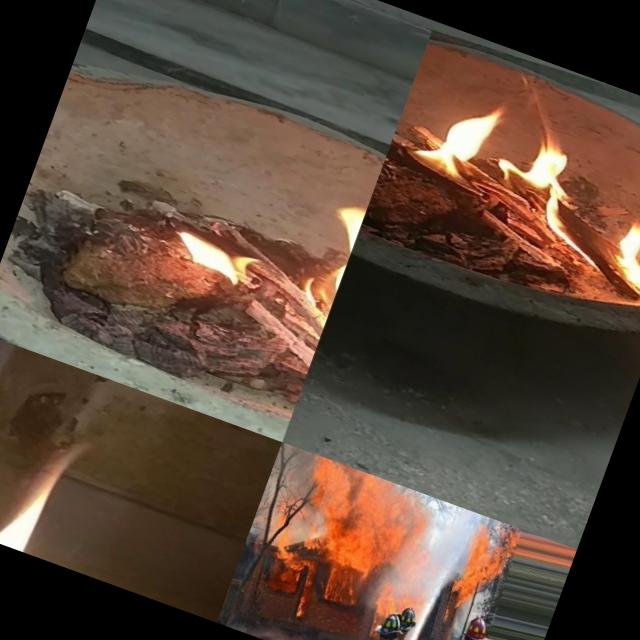fire: (375, 77, 640, 315), (260, 188, 368, 372), (0, 385, 106, 566), (292, 457, 439, 585), (152, 205, 282, 302), (448, 521, 516, 618), (256, 498, 326, 578), (318, 558, 370, 610), (290, 564, 318, 622), (376, 582, 408, 618)
smoke: (265, 442, 323, 508)
